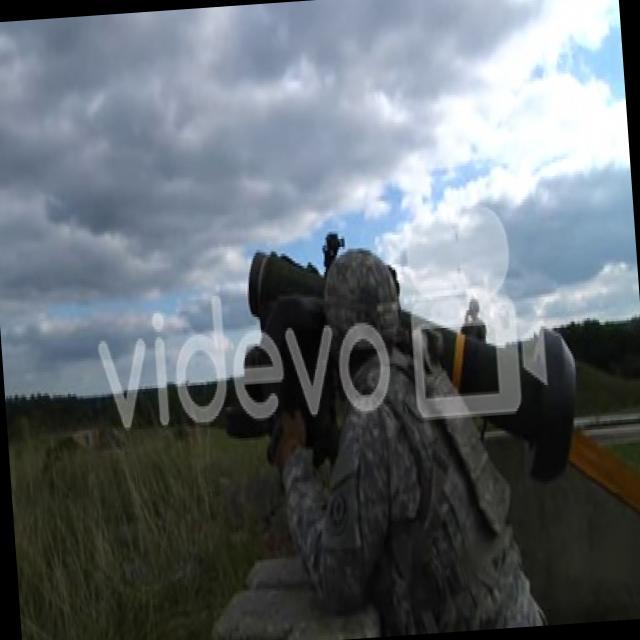rocket: (246, 228, 580, 498)
